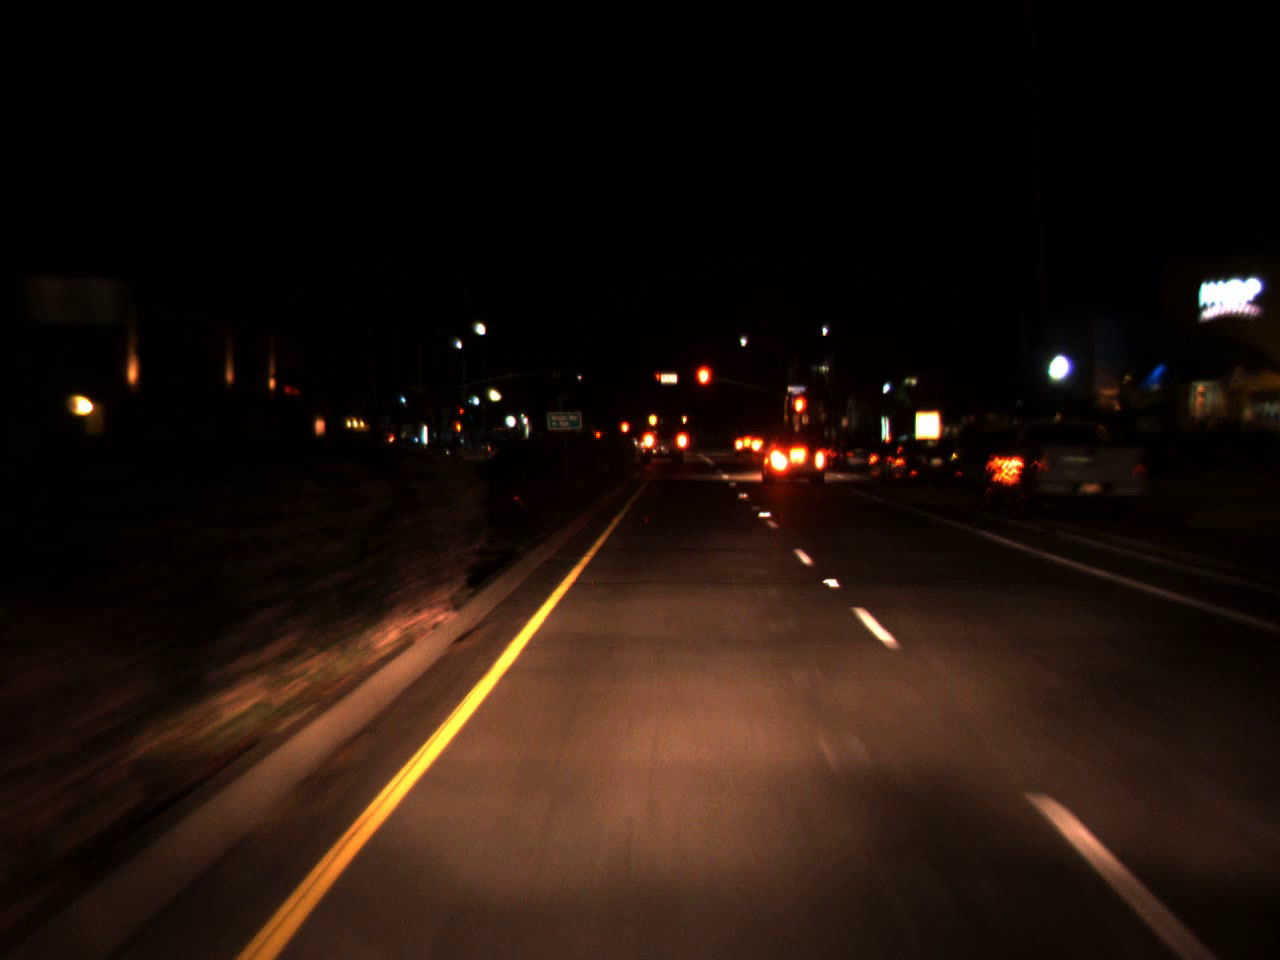stop: (693, 361, 714, 409), (791, 392, 809, 435), (459, 406, 465, 422), (655, 373, 661, 386)
